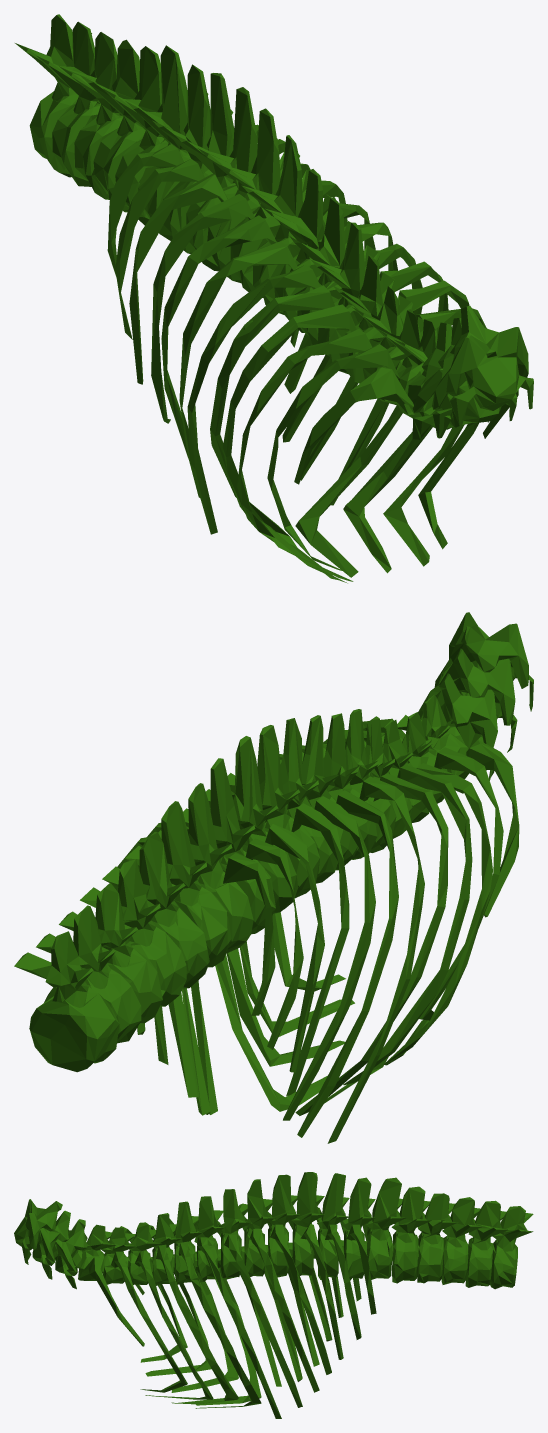
Rendered from SkeletonRexSpine.fbx.
3 views of the same model, one above another, from view 1: azimuth 30°, elevation 25°; view 2: azimuth 150°, elevation 25°; view 3: azimuth 270°, elevation 25° (orthographic). The views are drawn at different scales.
Parts seen in each view (by area): view 1: SkeletonRexSpine; view 2: SkeletonRexSpine; view 3: SkeletonRexSpine.
Boxes of the visible parts, x1,y1,x2,y2 form: SkeletonRexSpine: [15, 14, 533, 583]; SkeletonRexSpine: [14, 612, 533, 1143]; SkeletonRexSpine: [14, 1172, 533, 1418].
Bounding box in the file's own units: 161 × 267 × 535.
